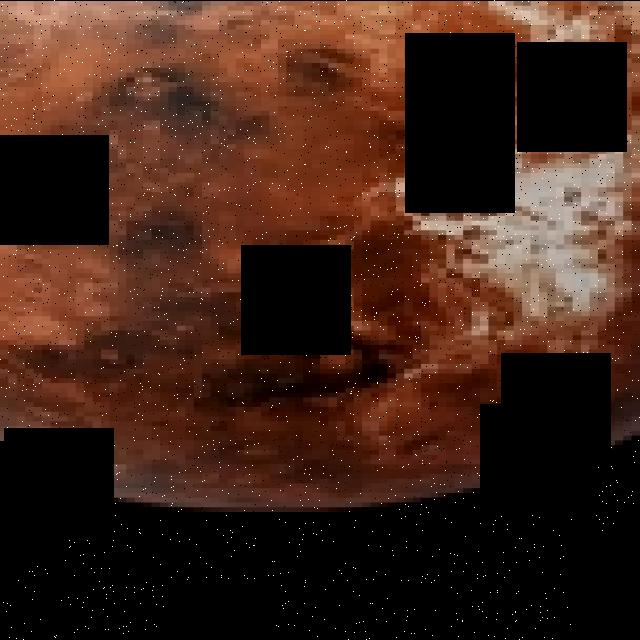Venus: (0, 0, 640, 511)
